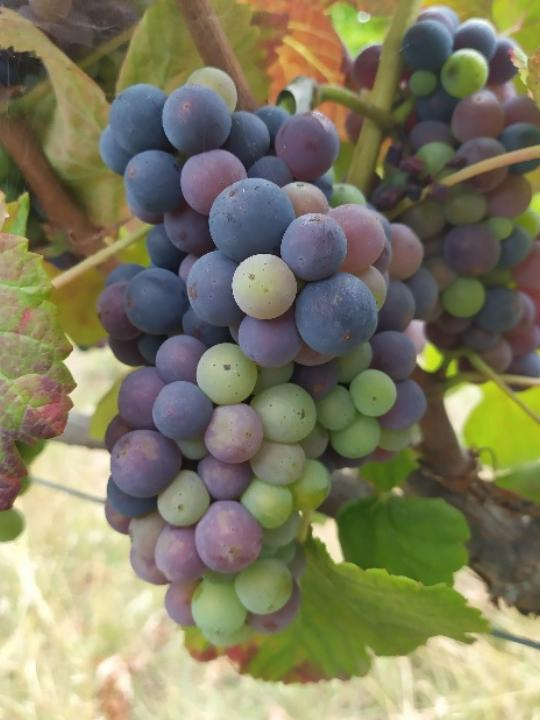grape: (95, 63, 432, 651)
